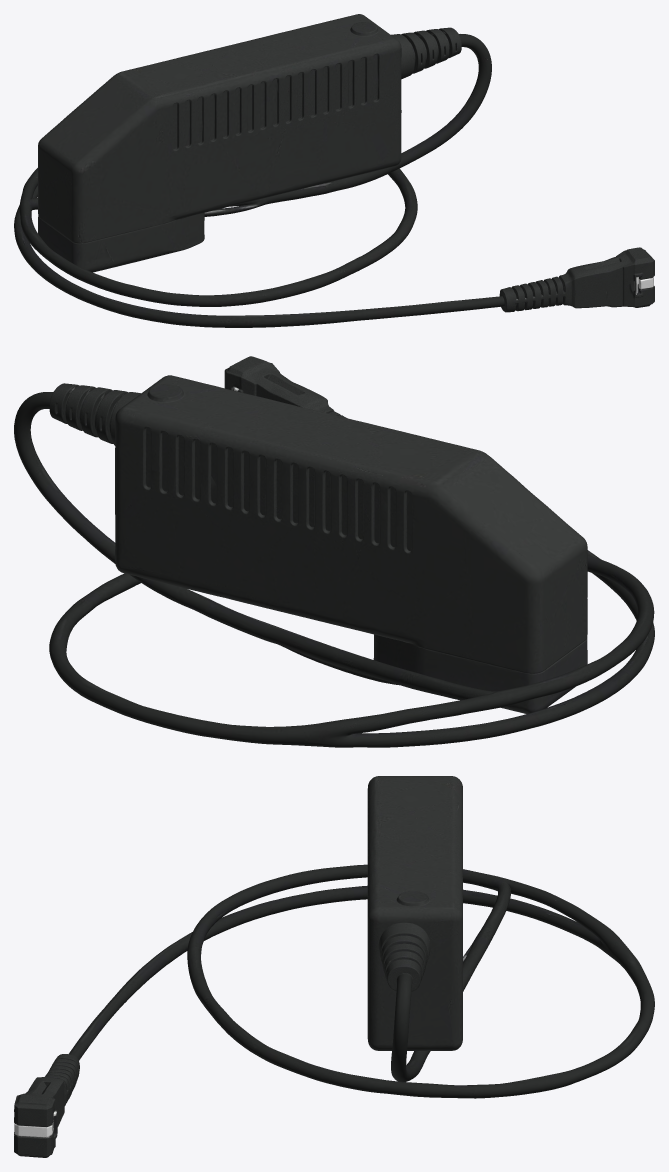
File: prosthetic-battery.glb
3 views of the same model, one above another, from view 1: azimuth 30°, elevation 25°; view 2: azimuth 150°, elevation 25°; view 3: azimuth 270°, elevation 25° (orthographic). The views are drawn at different scales.
Size of the model in its own units: 0.9231 by 0.3426 by 1.
1 material, 1 textured.
